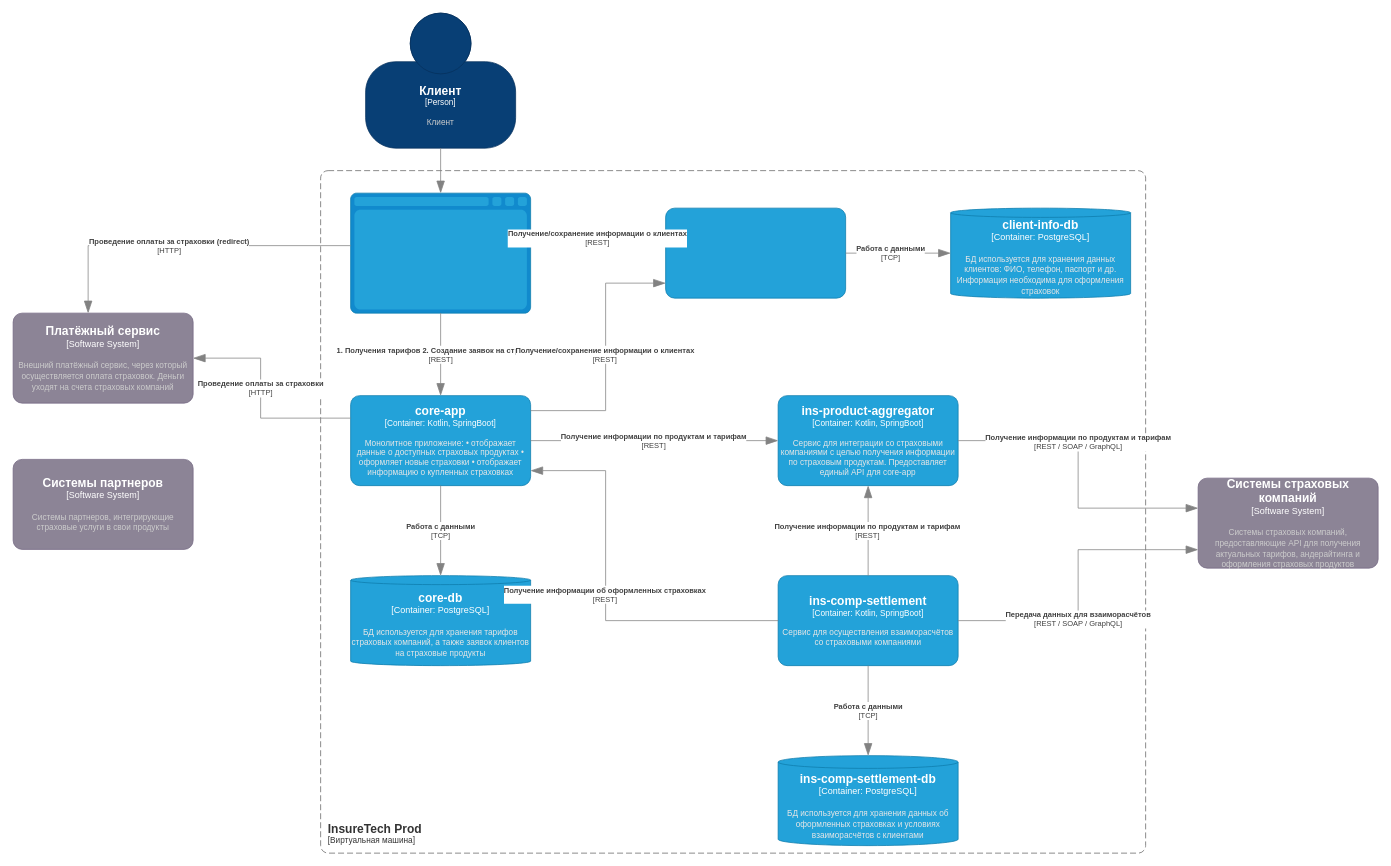
The diagram is 1391 pixels wide and 866 high, and some of its shapes have lost their labels. Each missing label, with the centre of its shape:
"client-info [Container: Kotlin, SpringBoot] Сервис для учёта клиентских данных" belongs at point 755,252.
"InsureTech Web [Container: JavaScript, React] Веб-приложение InsureTech" belongs at point 440,252.
